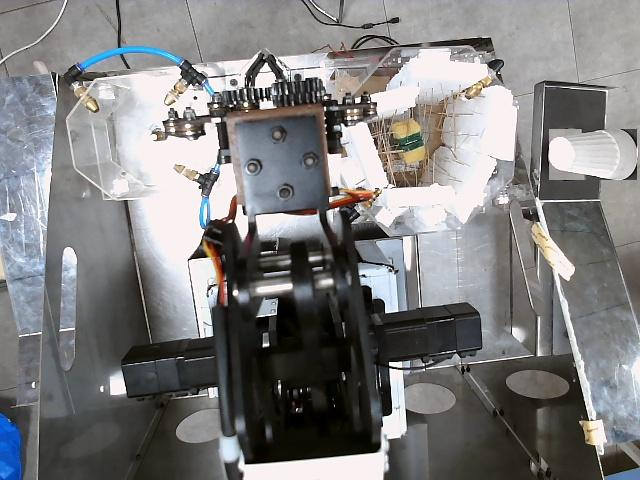cup: (549, 129, 637, 180)
